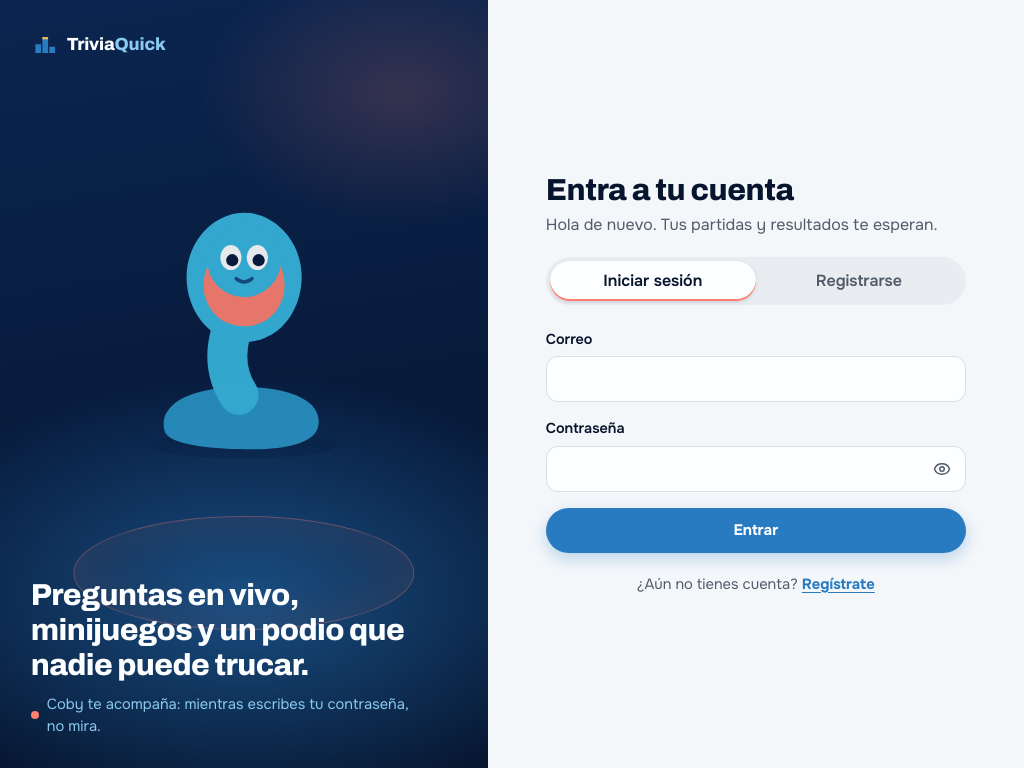
Test case: Login con Coby › muestra confusión ante un error de acceso
Type "a@b.com" into the field labelled "Correo" at x=756, y=379, box 546,356 -> 966,402
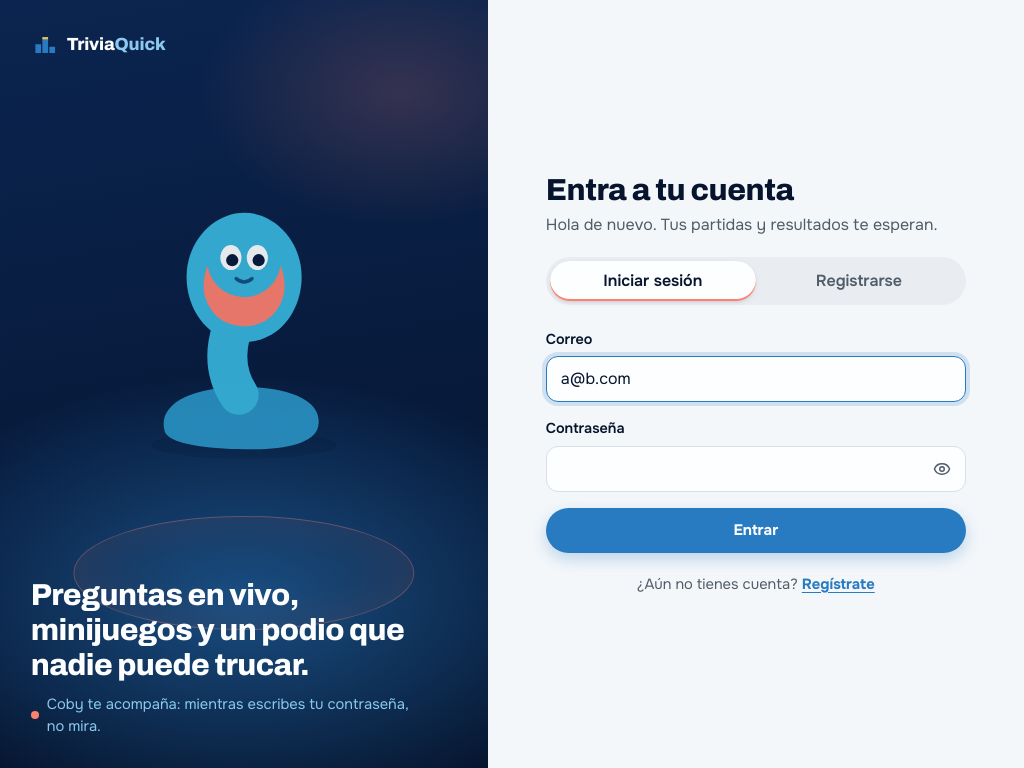
Type "xxxxxxxx" into the password field labelled "Contraseña" at x=756, y=469, box 546,446 -> 966,492
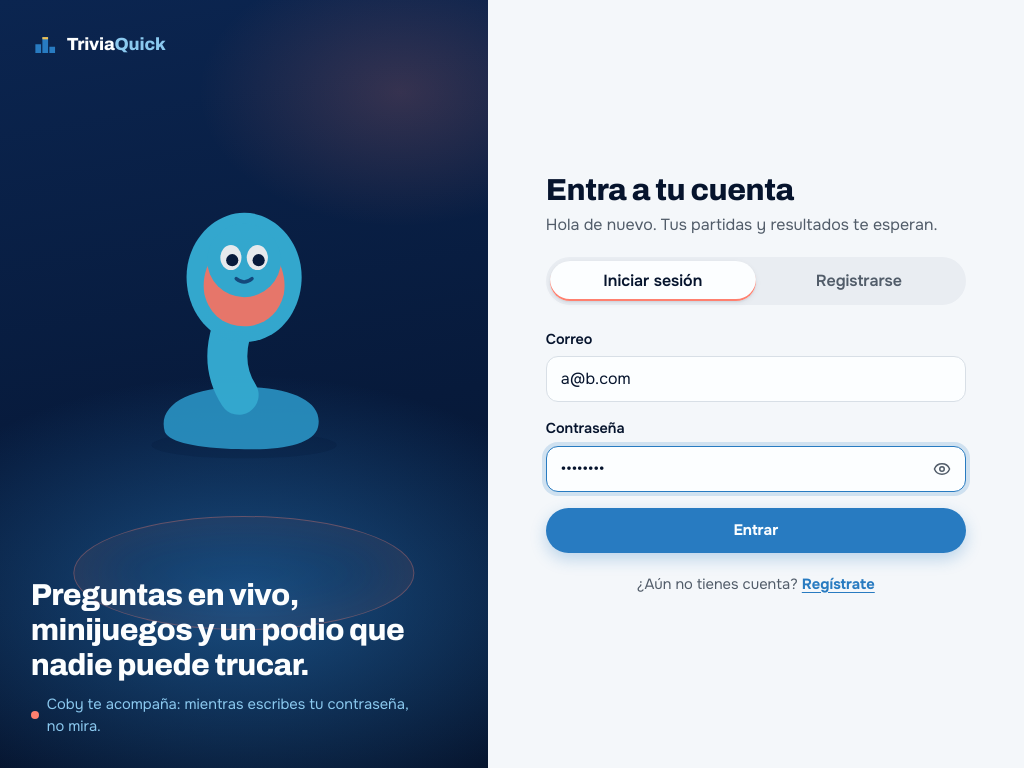
Click the button "Entrar" at x=756, y=530, box 546,508 -> 966,553
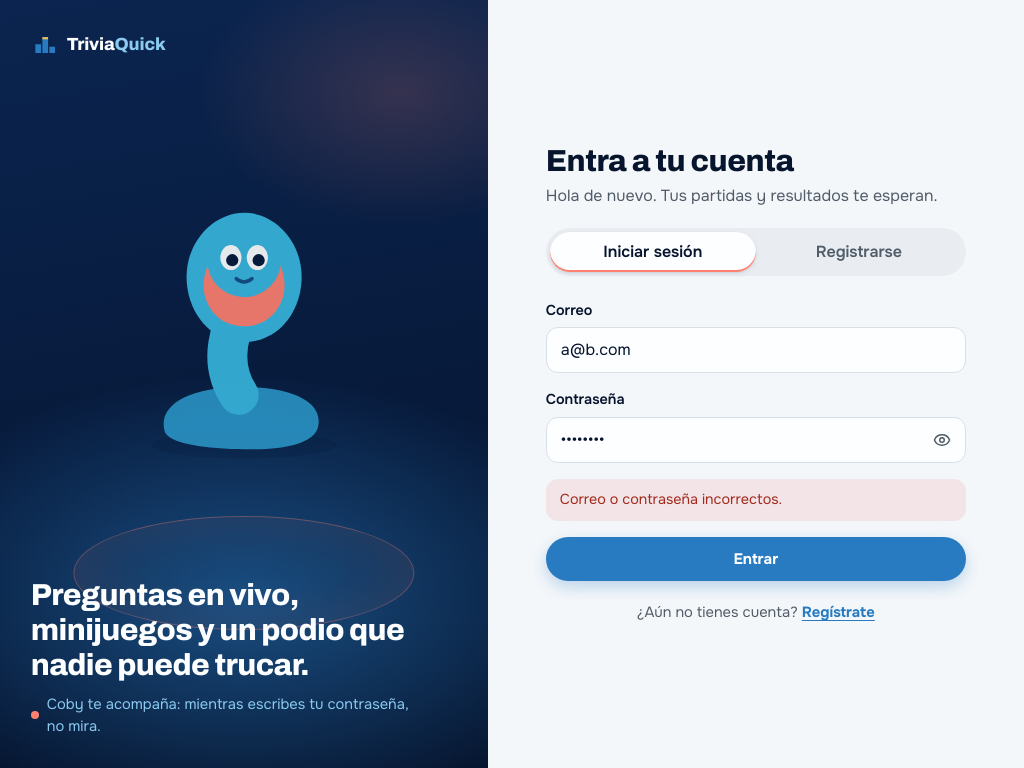
Result: the message reads "Correo o contraseña incorrectos." at 560,490 -> 782,508
